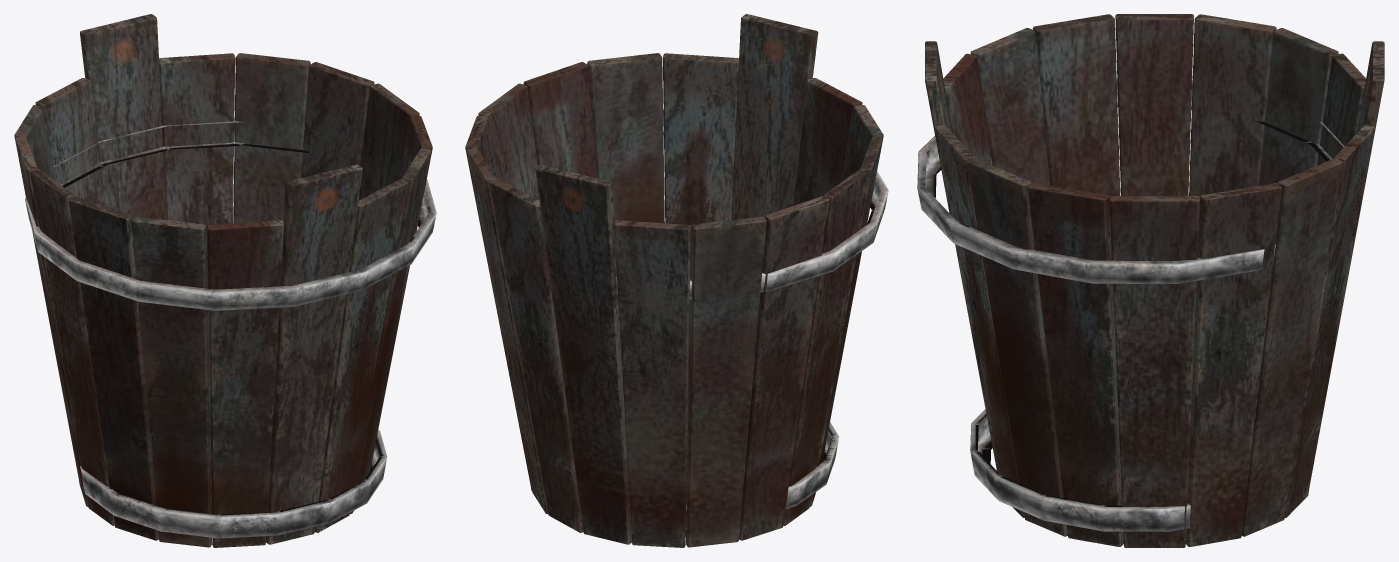
Rendered from bucket.glb.
3 renders of one model, left to right at view 1: azimuth 30°, elevation 25°; view 2: azimuth 150°, elevation 25°; view 3: azimuth 270°, elevation 25°, orthographic. The views are drawn at different scales.
Parts seen in each view (by area): view 1: Object_3, Object_2; view 2: Object_3, Object_2; view 3: Object_3, Object_2.
Boxes of the visible parts, x1=… form: Object_3: x1=14, y1=14, x2=432, y2=547; Object_2: x1=25, y1=120, x2=436, y2=538; Object_3: x1=465, y1=14, x2=883, y2=547; Object_2: x1=616, y1=108, x2=888, y2=525; Object_3: x1=925, y1=14, x2=1384, y2=547; Object_2: x1=917, y1=78, x2=1344, y2=531.
Size of the model in its own units: 1.14 by 1.2 by 1.2.
Materials: 2 (2 with a texture image).
